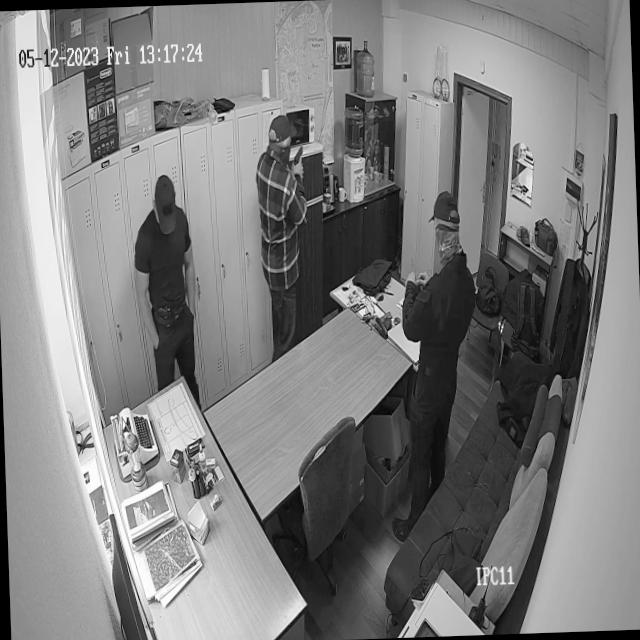gun: (293, 143, 305, 166)
person: (396, 182, 478, 546), (128, 160, 222, 396)
person with a gun: (247, 109, 324, 357)
